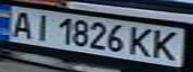1: (51, 15, 75, 46)
2: (87, 19, 109, 52)
6: (106, 21, 130, 54)
8: (69, 17, 90, 48)
A: (6, 8, 36, 38)
I: (27, 11, 54, 42)
K: (148, 28, 184, 62), (124, 25, 157, 58)
